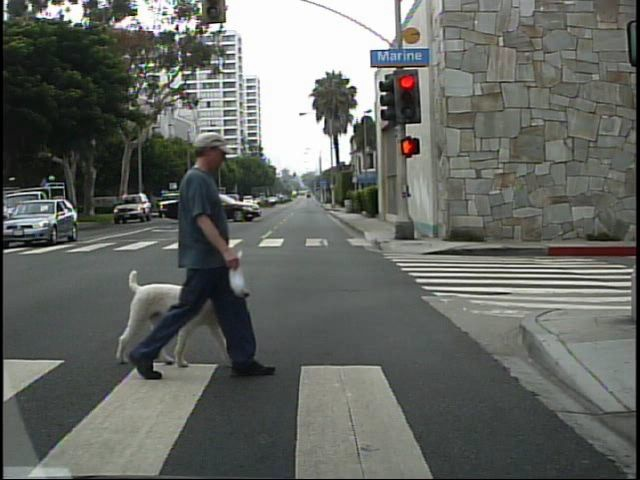person: (127, 118, 259, 385)
